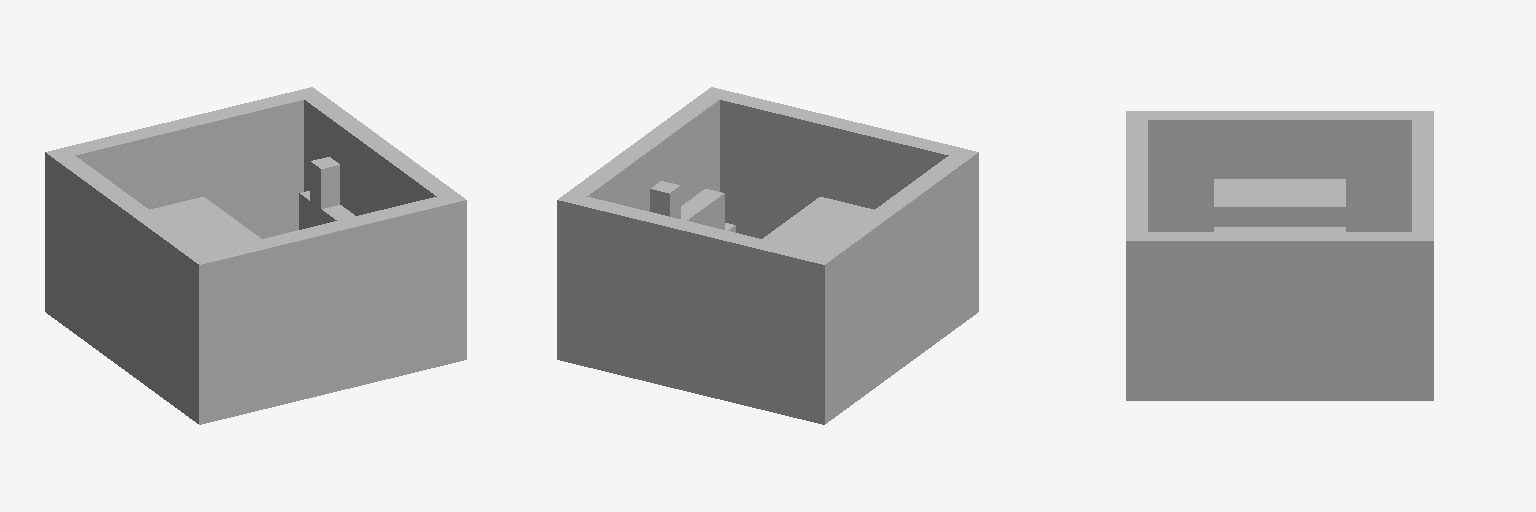
The model's file is towar-3.obj.
The picture shows the model from 3 angles: view 1: azimuth 30°, elevation 25°; view 2: azimuth 150°, elevation 25°; view 3: azimuth 270°, elevation 25°; orthographic projection.
Visible parts, largest first — view 1: towar-3; view 2: towar-3; view 3: towar-3.
Boxes of the visible parts, box(x1,y1,x2,y2) form: towar-3: box(45, 87, 466, 424); towar-3: box(557, 87, 978, 424); towar-3: box(1126, 111, 1433, 400).
Bounding box in the file's own units: 14 × 8 × 14.